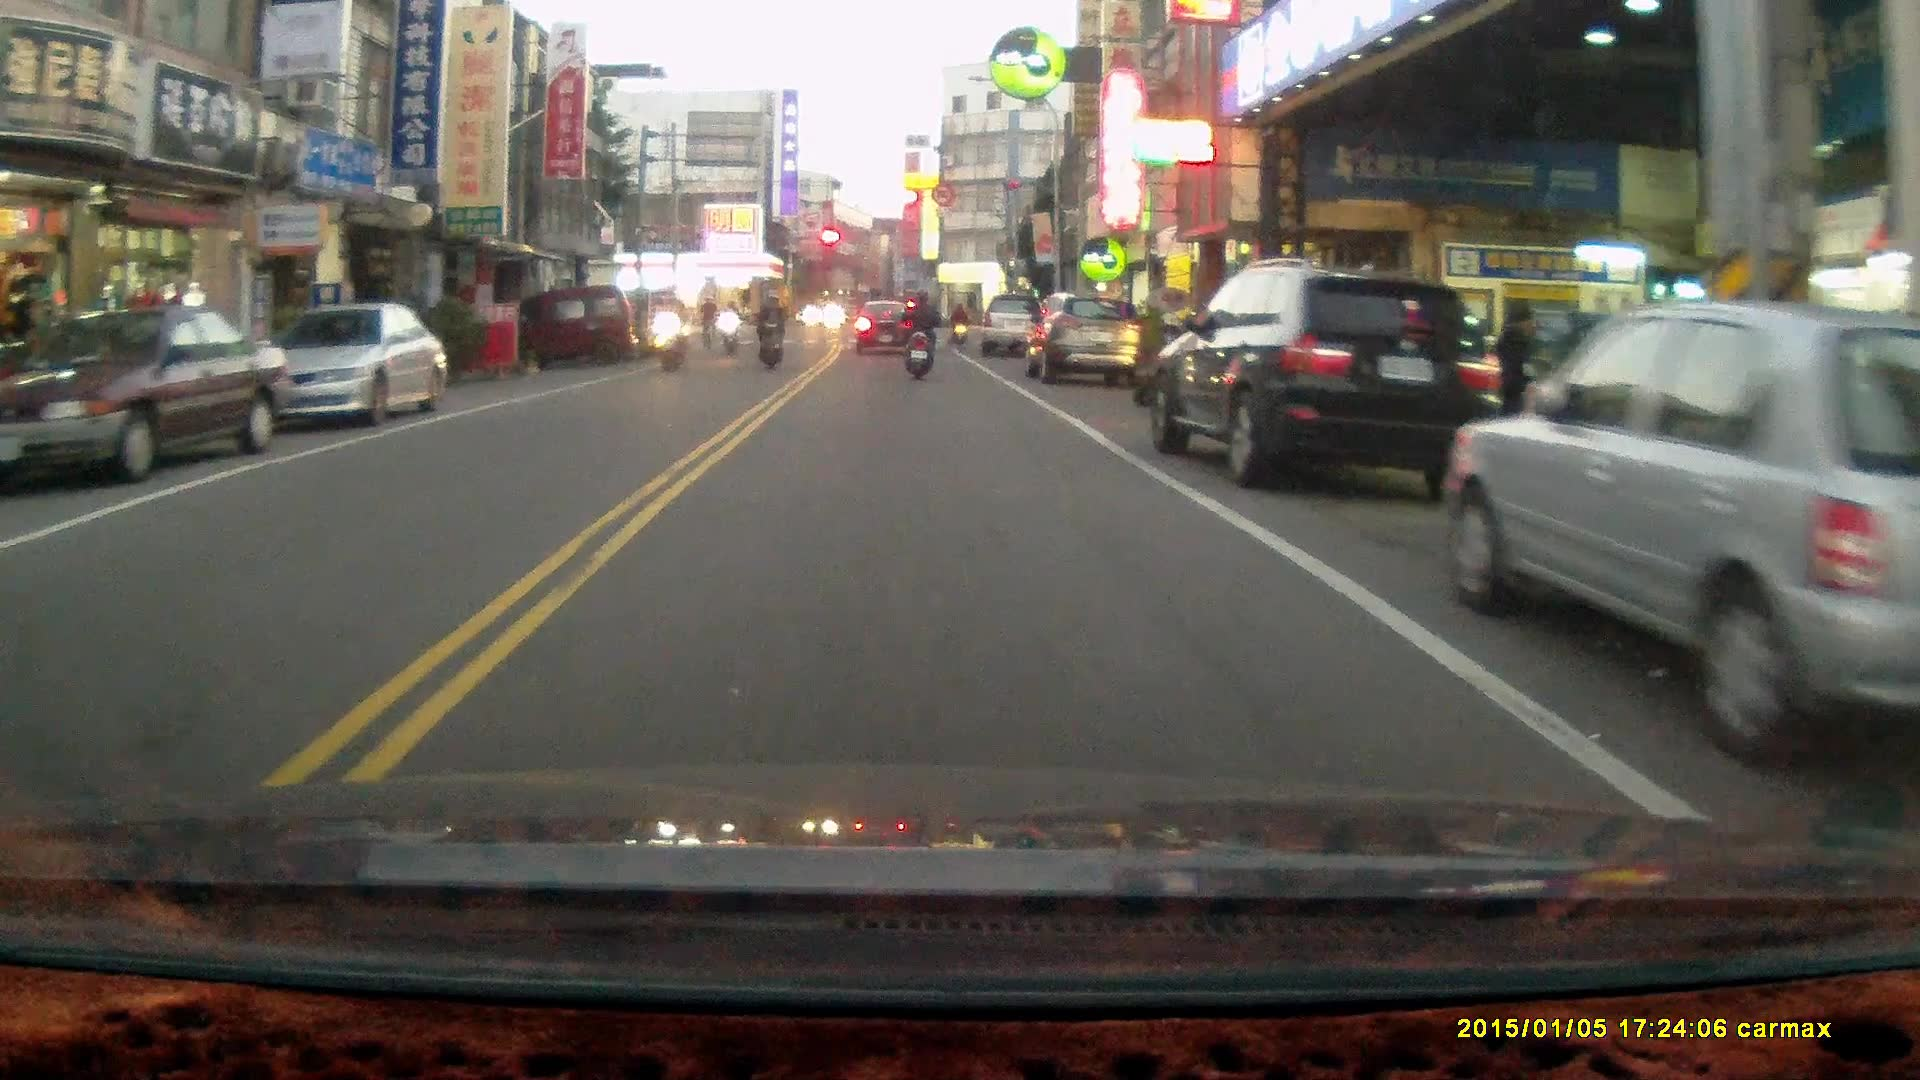pedestrian: (1494, 308, 1537, 450)
rider: (897, 287, 938, 380), (655, 291, 686, 373), (754, 291, 785, 370), (716, 295, 740, 352), (696, 291, 719, 351), (946, 298, 968, 343)
vehicle: (1444, 298, 1920, 772), (1154, 256, 1501, 492), (5, 302, 302, 487), (249, 302, 450, 430), (1022, 293, 1143, 381), (542, 284, 648, 359), (978, 290, 1057, 357)
